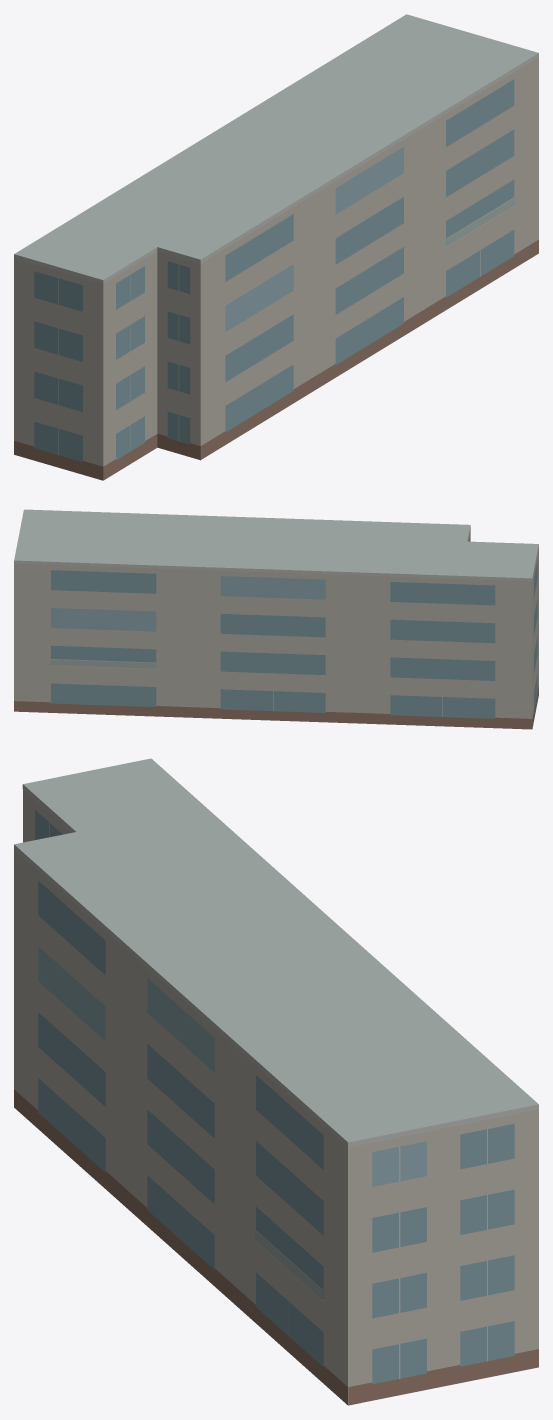
File: residential-89375887-e36f-4200-85d2-4894f537e7fc.glb
3 views of the same model, one above another, from view 1: azimuth 30°, elevation 25°; view 2: azimuth 150°, elevation 25°; view 3: azimuth 270°, elevation 25° (orthographic). The views are drawn at different scales.
Visible parts, largest first — view 1: residential-89375887-e36f-4200-85d2-4894f537e7fc.tmp; view 2: residential-89375887-e36f-4200-85d2-4894f537e7fc.tmp; view 3: residential-89375887-e36f-4200-85d2-4894f537e7fc.tmp.
Boxes of the visible parts, x1=… form: residential-89375887-e36f-4200-85d2-4894f537e7fc.tmp: x1=14, y1=14, x2=538, y2=480; residential-89375887-e36f-4200-85d2-4894f537e7fc.tmp: x1=14, y1=509, x2=538, y2=729; residential-89375887-e36f-4200-85d2-4894f537e7fc.tmp: x1=14, y1=758, x2=538, y2=1405.
Size of the model in its own units: 38.2 by 12.2 by 22.06.
